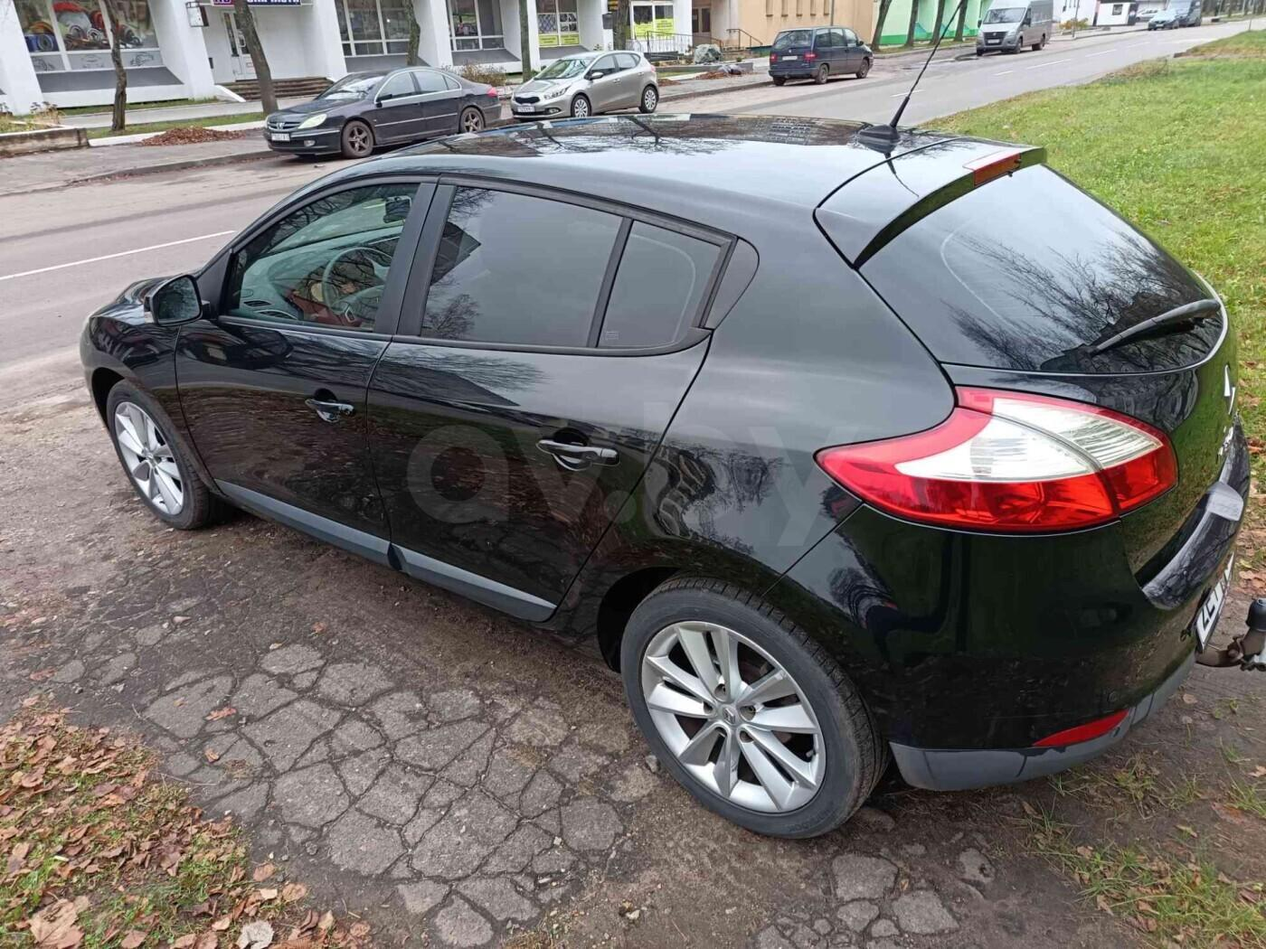Megane_2008-2014: (74, 107, 1244, 835)
